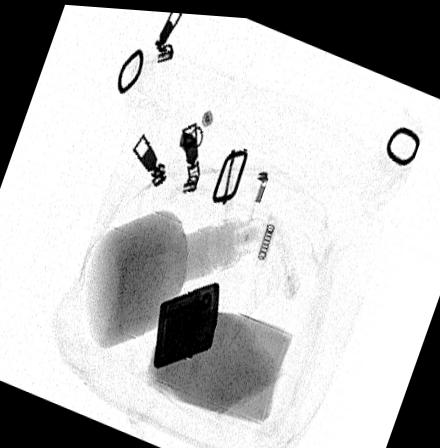Lighter: (151, 276, 219, 367)
